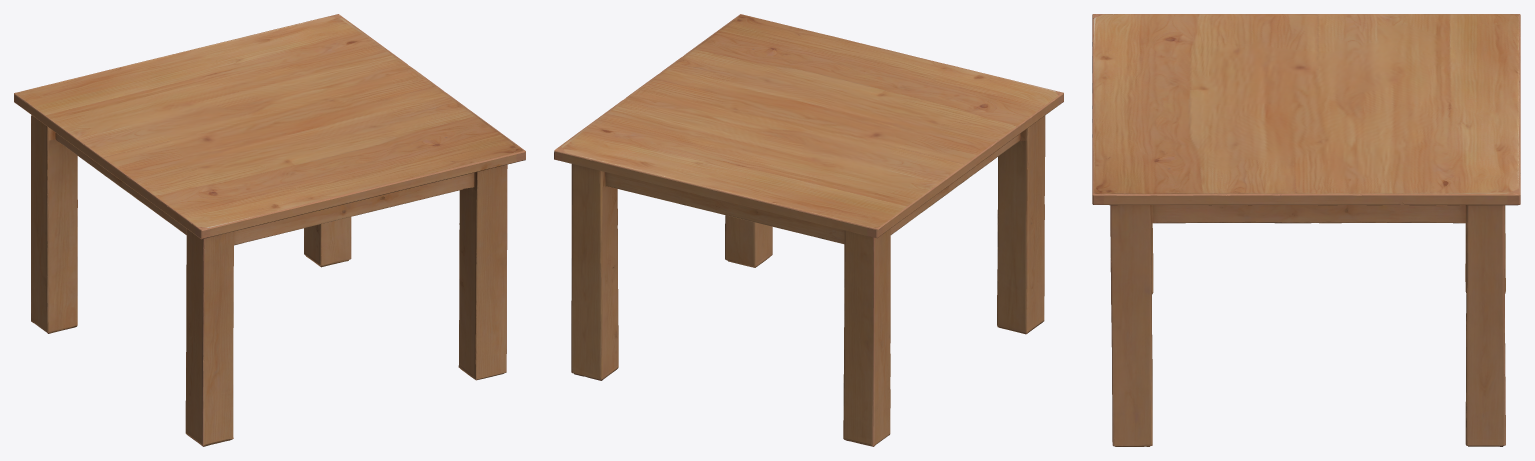
Rendered from table.FBX.
3 views of the same model, side by side, from view 1: azimuth 30°, elevation 25°; view 2: azimuth 150°, elevation 25°; view 3: azimuth 270°, elevation 25° (orthographic). The views are drawn at different scales.
Parts seen in each view (by area): view 1: temp; view 2: temp; view 3: temp.
Part boxes in pixels (x1,y1,x2,y2): temp: [14, 14, 525, 446]; temp: [554, 14, 1063, 446]; temp: [1092, 14, 1520, 446].
Size of the model in its own units: 200 by 134 by 200.
1 material, 1 textured.
